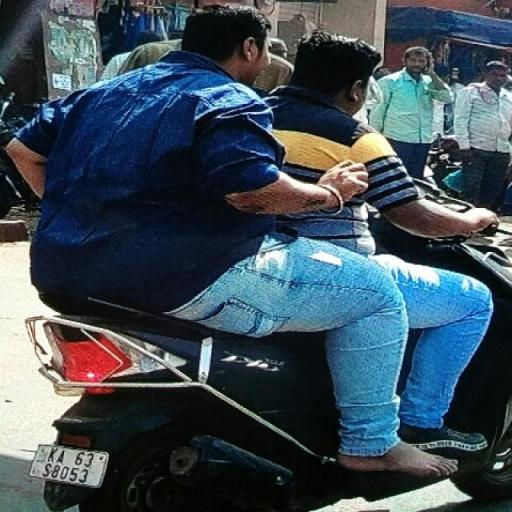bike: (4, 1, 512, 512)
numberplate: (34, 444, 100, 489)
withouthelmet: (286, 24, 382, 111), (182, 8, 268, 73)
